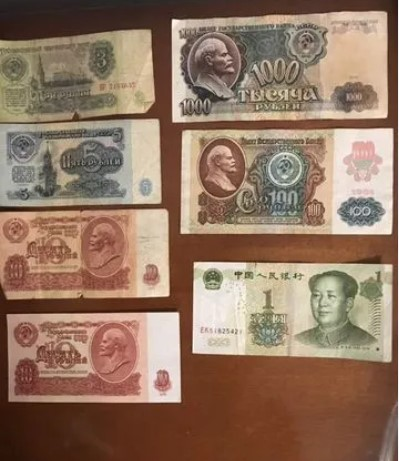cash: (172, 10, 388, 122), (180, 128, 393, 235), (191, 262, 393, 362), (7, 311, 182, 404), (1, 209, 169, 298), (1, 29, 155, 122), (1, 119, 161, 206)
